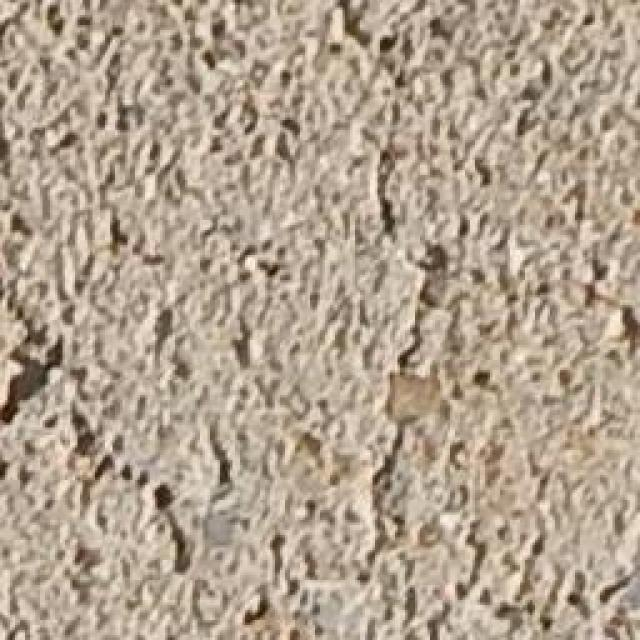concrete-crack: (326, 2, 468, 600)
